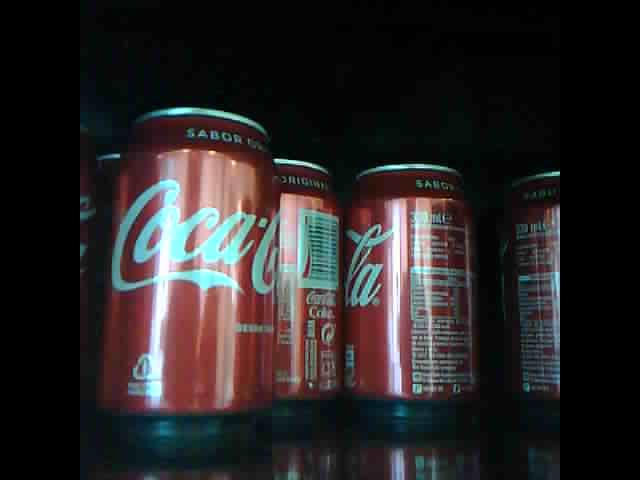coca cola: (91, 106, 280, 426), (343, 159, 480, 410), (266, 147, 339, 412), (500, 166, 561, 407), (80, 139, 119, 410)
